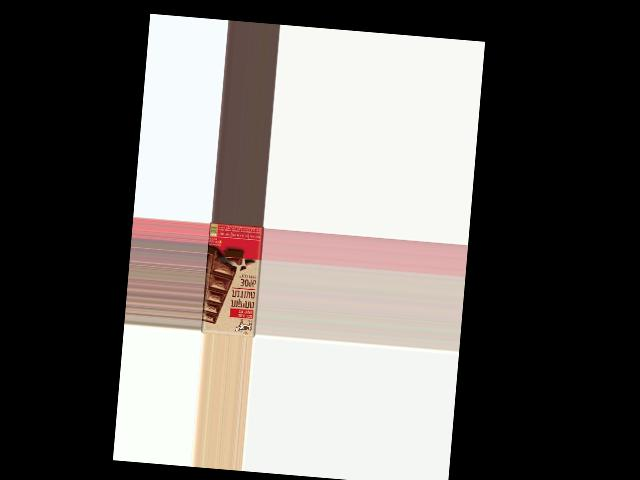chocolate: (201, 223, 264, 337)
